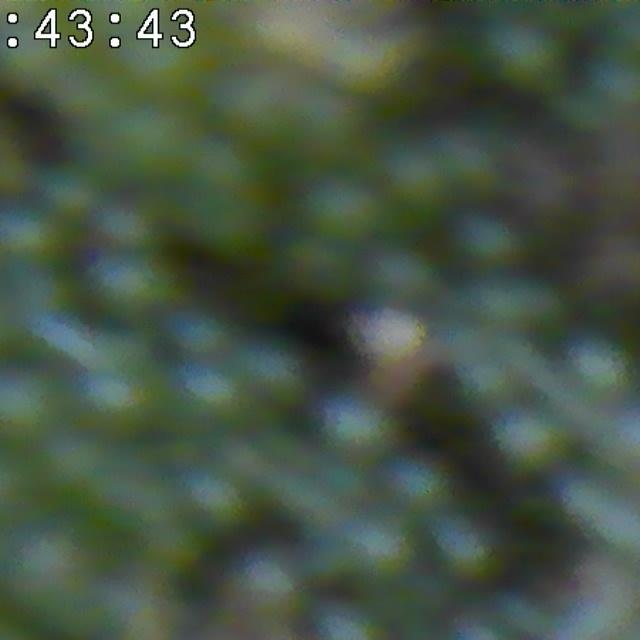SeaGrape: (0, 515, 102, 626), (207, 60, 305, 155), (70, 357, 169, 445), (103, 98, 197, 190), (86, 244, 177, 328), (303, 167, 392, 252), (477, 13, 568, 96), (511, 154, 584, 251), (359, 237, 441, 316), (447, 203, 529, 277), (32, 426, 106, 508), (0, 360, 67, 450), (341, 507, 418, 585), (376, 141, 450, 220), (578, 229, 640, 319), (378, 449, 454, 522), (495, 406, 561, 470)
